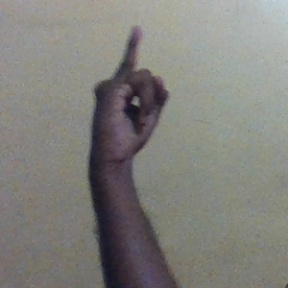I: (89, 21, 178, 163)
